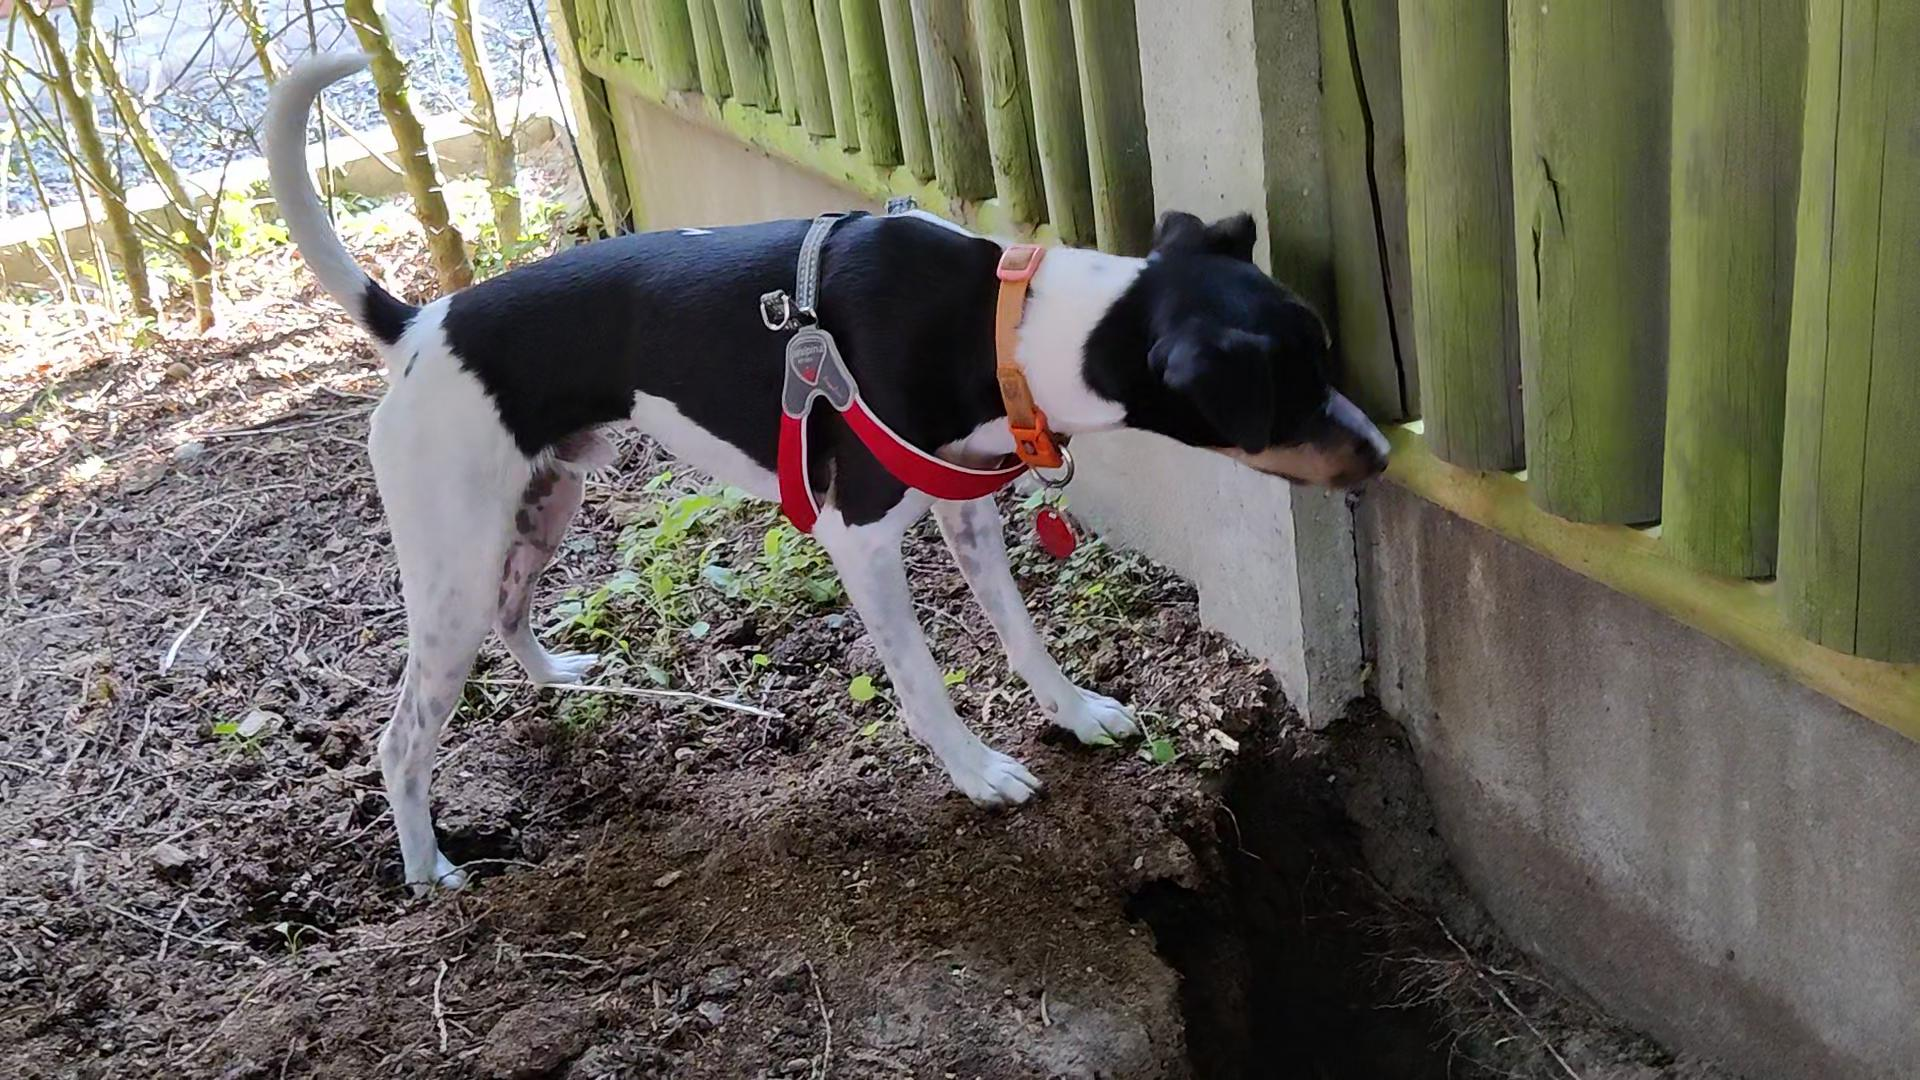Dog: (248, 32, 1440, 909)
